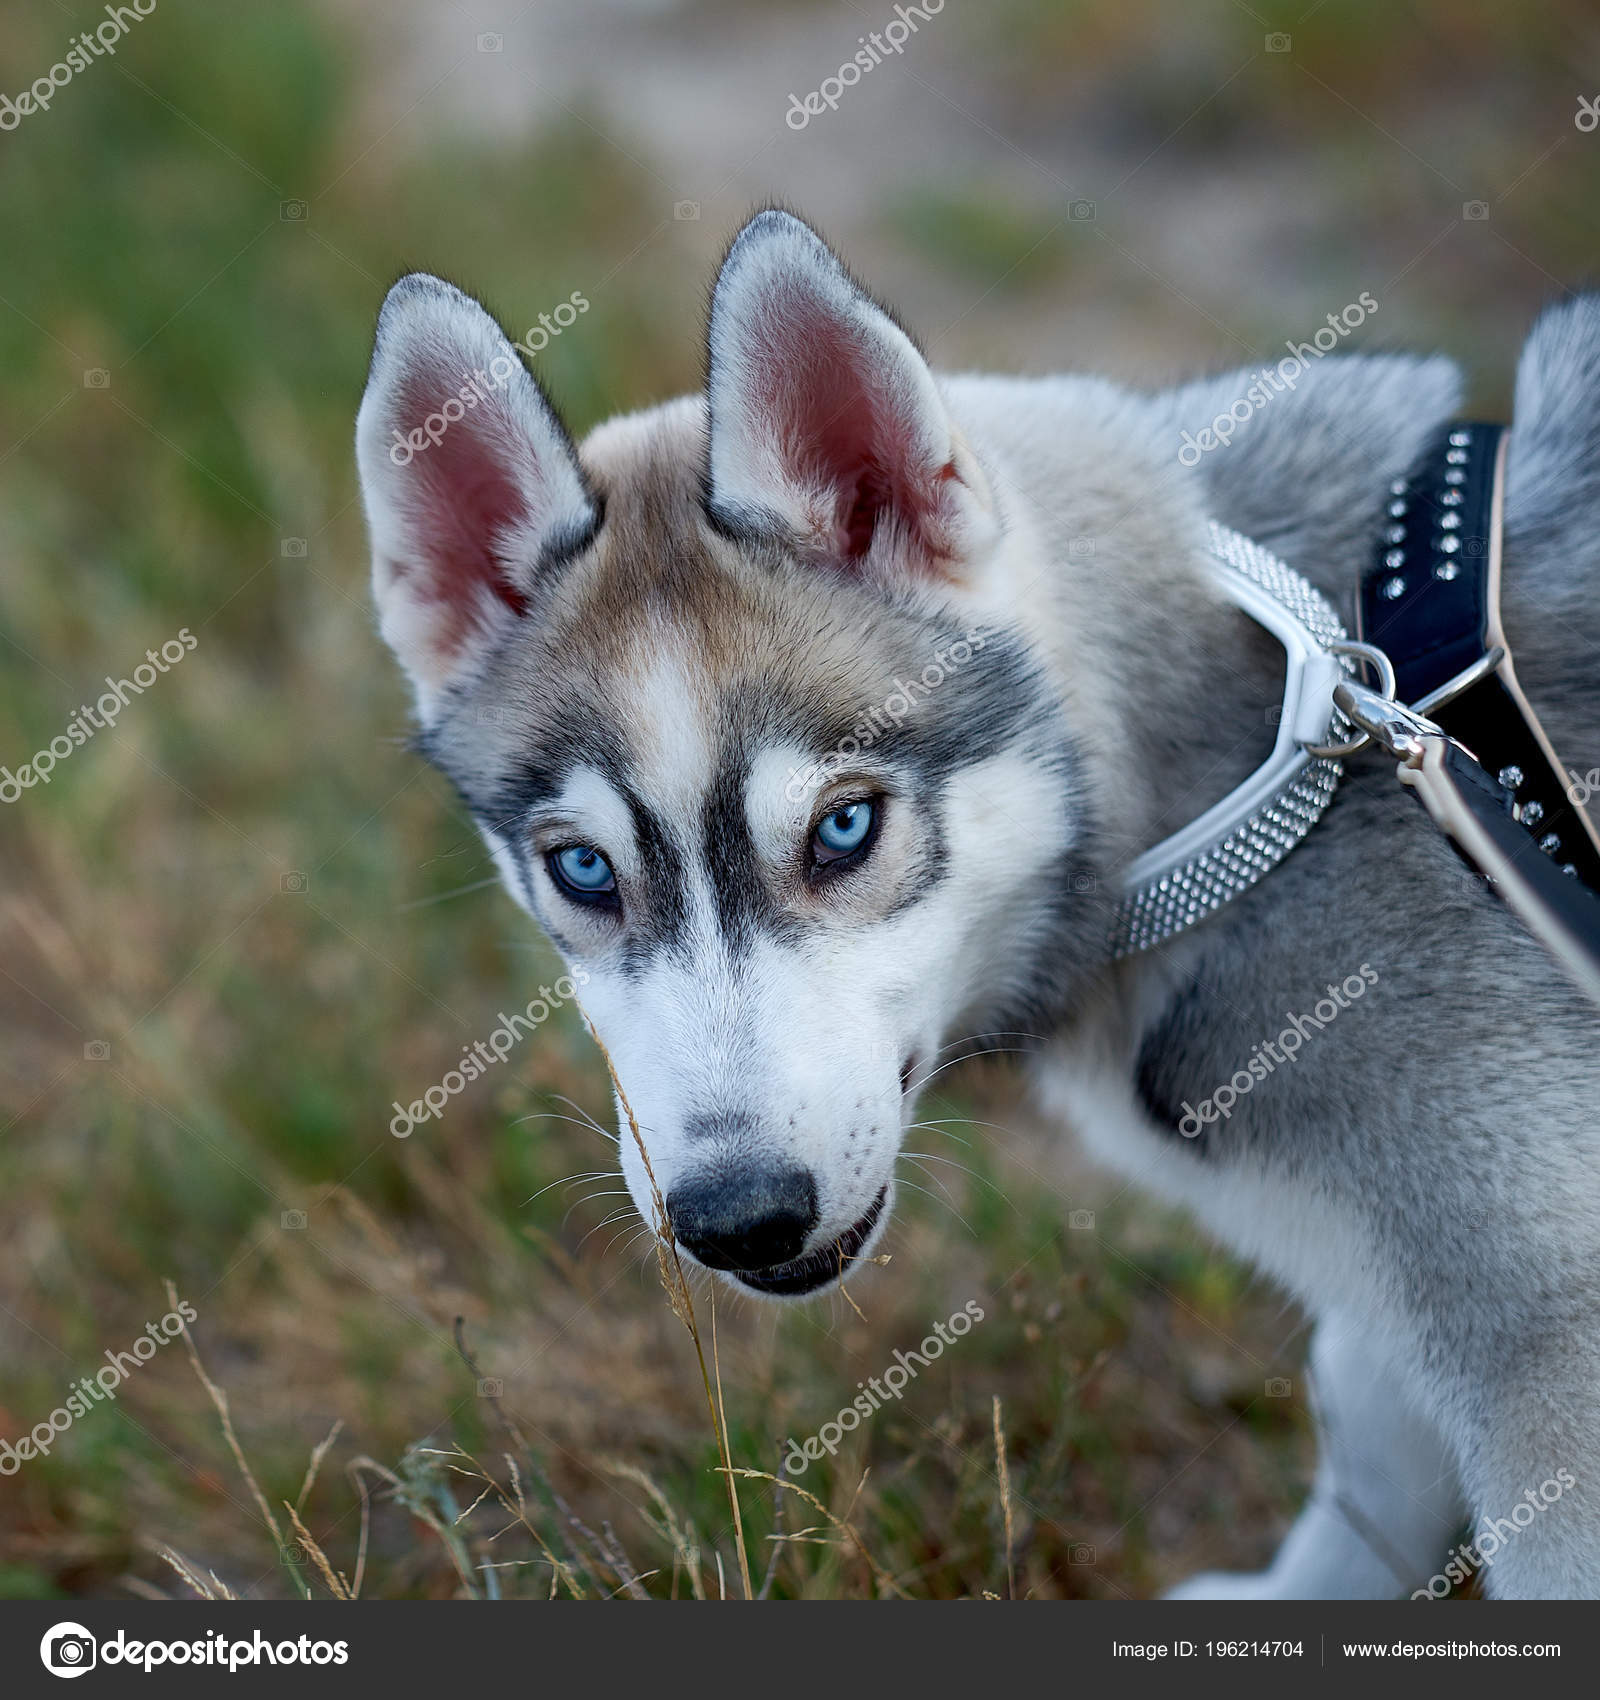husky: (278, 201, 1226, 1332)
